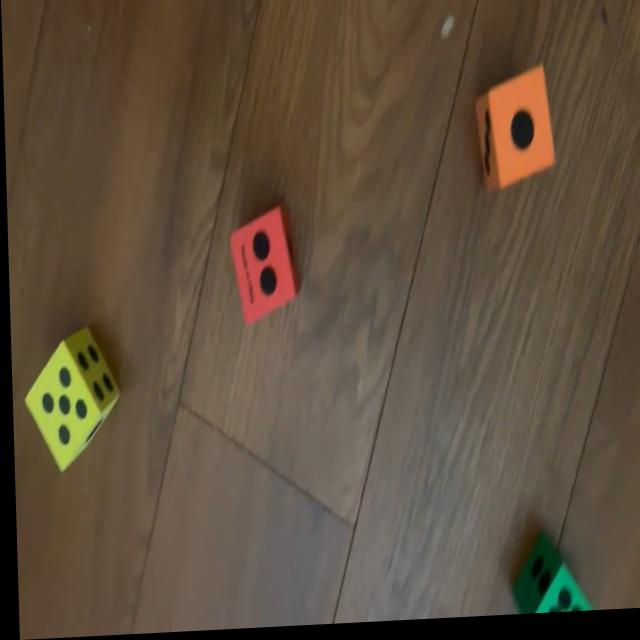red_block: (226, 211, 300, 326)
